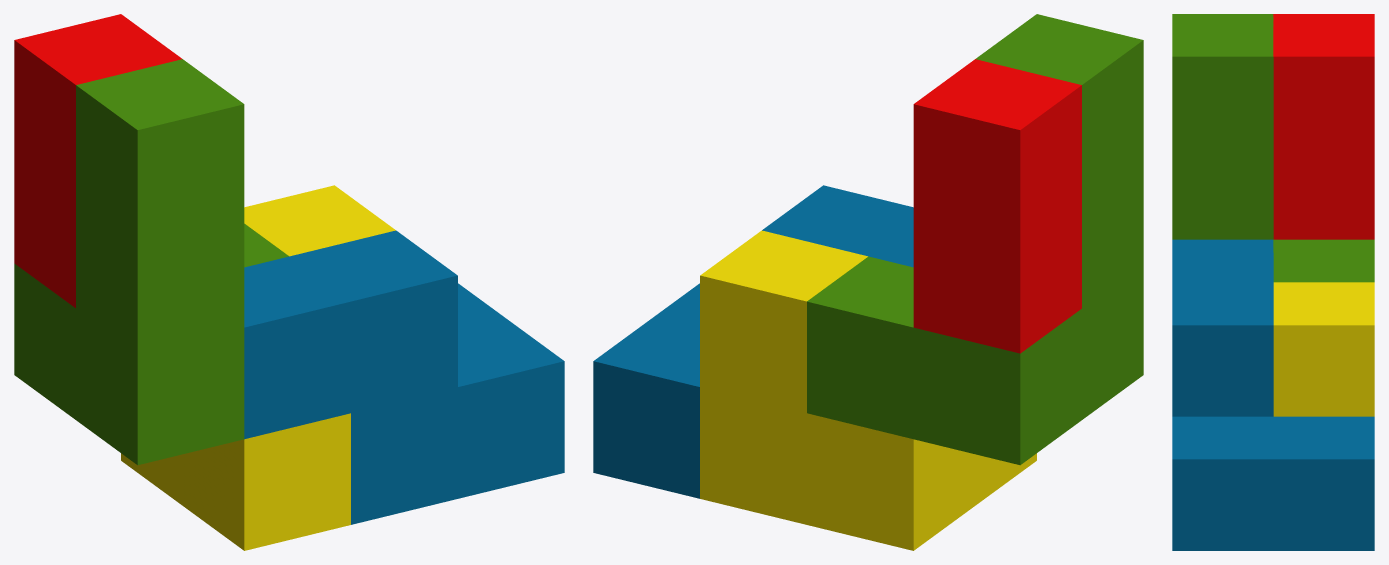
3 views of the same model, side by side, from view 1: azimuth 30°, elevation 25°; view 2: azimuth 150°, elevation 25°; view 3: azimuth 270°, elevation 25° (orthographic). The views are drawn at different scales.
Visible parts, largest first — view 1: mergedBlocks(Clone); view 2: mergedBlocks(Clone); view 3: mergedBlocks(Clone).
Part boxes in pixels (<box>): mergedBlocks(Clone): <box>14,14,564,550</box>; mergedBlocks(Clone): <box>593,14,1143,550</box>; mergedBlocks(Clone): <box>1172,14,1374,550</box>.
Bounding box in the file's own units: 4 × 4 × 2.
4 materials, 4 textured.
